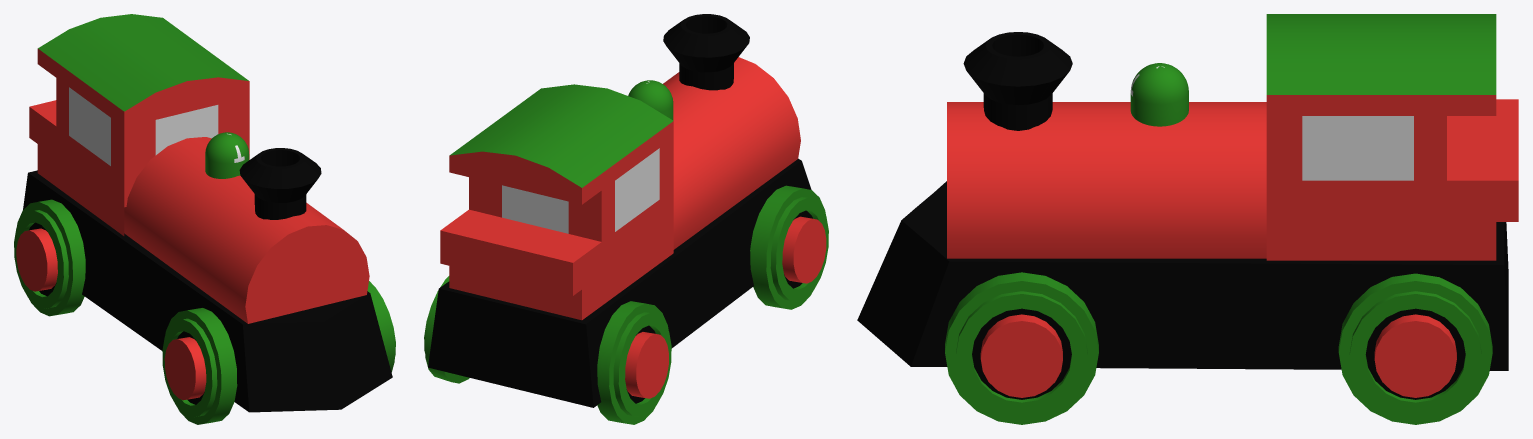
The model's file is Train.fbx.
3 views of the same model, side by side, from view 1: azimuth 30°, elevation 25°; view 2: azimuth 150°, elevation 25°; view 3: azimuth 270°, elevation 25° (orthographic). The views are drawn at different scales.
Parts seen in each view (by area): view 1: Train; view 2: Train; view 3: Train.
Part boxes in pixels (x1=…): Train: x1=14, y1=14, x2=395, y2=424; Train: x1=424, y1=14, x2=828, y2=424; Train: x1=857, y1=14, x2=1518, y2=424.
Bounding box in the file's own units: 55.38 × 65.95 × 118.
